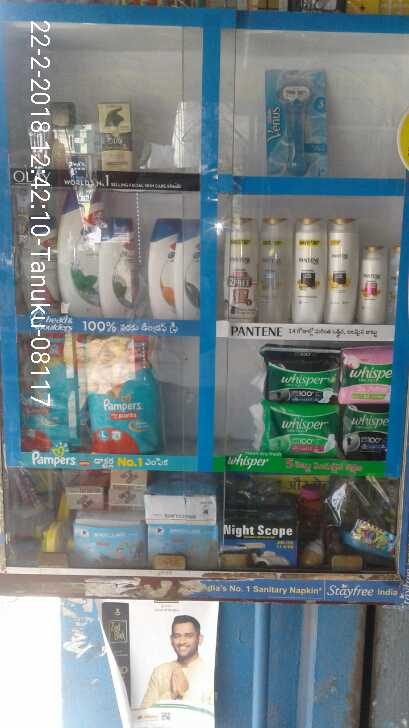venus: (267, 67, 325, 171)
